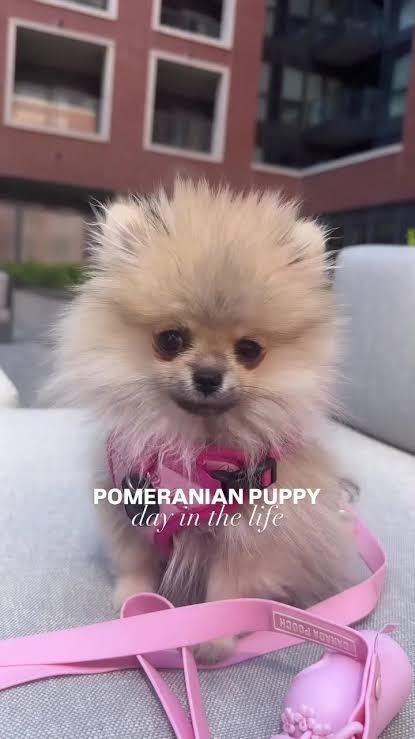puppy-dog: (51, 170, 367, 670)
